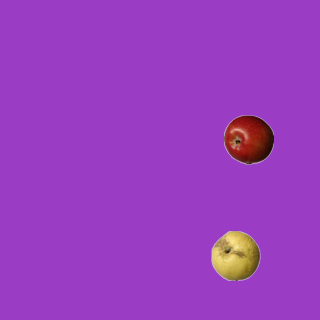Apple Braeburn: (223, 114, 273, 164)
Apple Golden 1: (210, 230, 260, 280)
